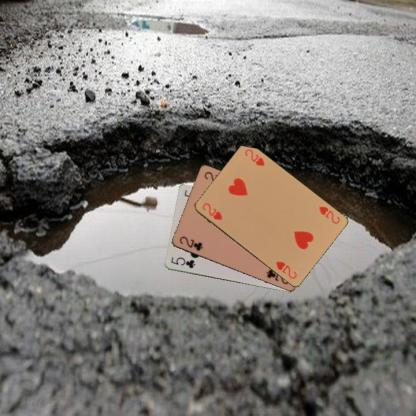2c: (177, 234, 204, 252)
2h: (316, 204, 341, 225), (200, 200, 224, 221)
5c: (168, 254, 197, 270)
